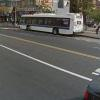Bus: (14, 9, 87, 38)
